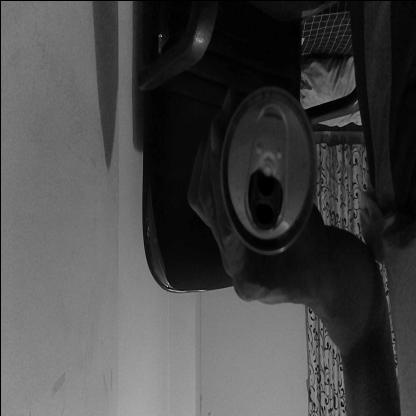alumunium_can: (217, 86, 317, 262)
